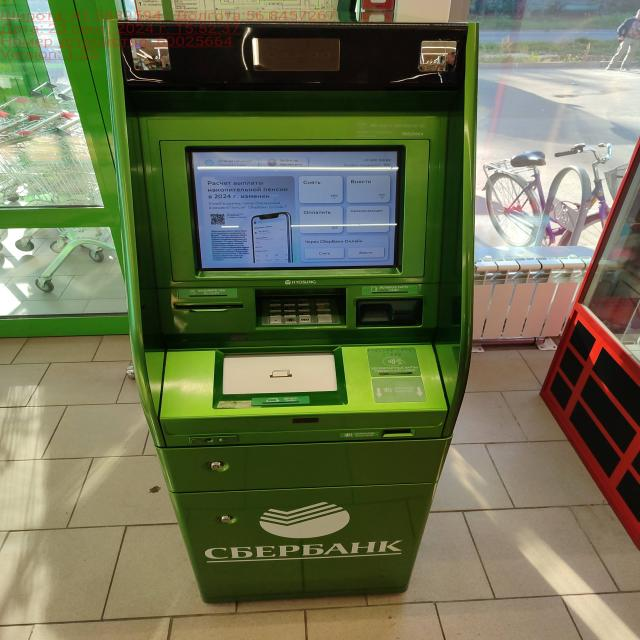bank: (102, 16, 477, 605)
